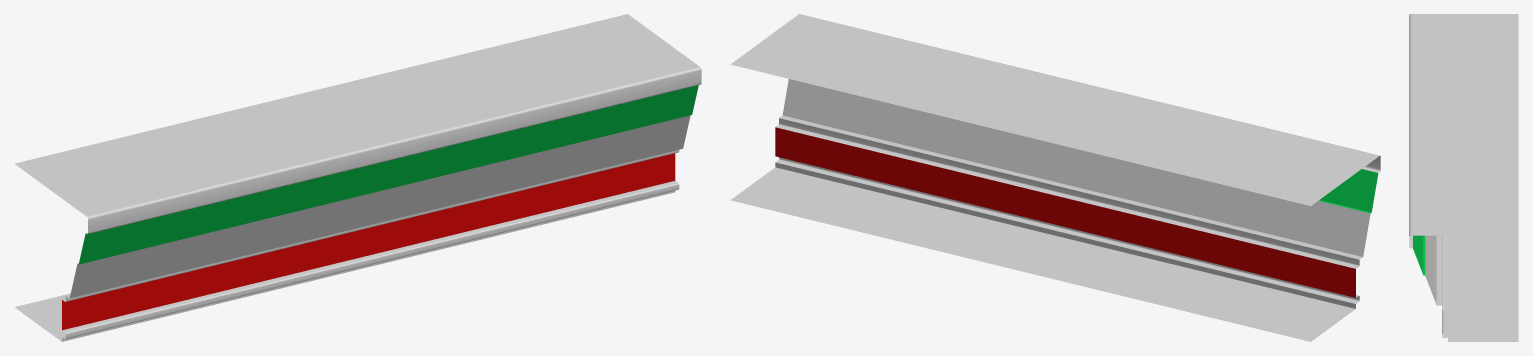
File: Terrace_01.fbx
3 renders of one model, left to right at view 1: azimuth 30°, elevation 25°; view 2: azimuth 150°, elevation 25°; view 3: azimuth 270°, elevation 25°, orthographic. The views are drawn at different scales.
Visible parts, largest first — view 1: Box005; view 2: Box005; view 3: Box005.
Part boxes in pixels (<box>): Box005: <box>14,14,701,341</box>; Box005: <box>730,14,1380,341</box>; Box005: <box>1409,14,1518,341</box>.
Size of the model in its own units: 330 by 68.87 by 73.84.
